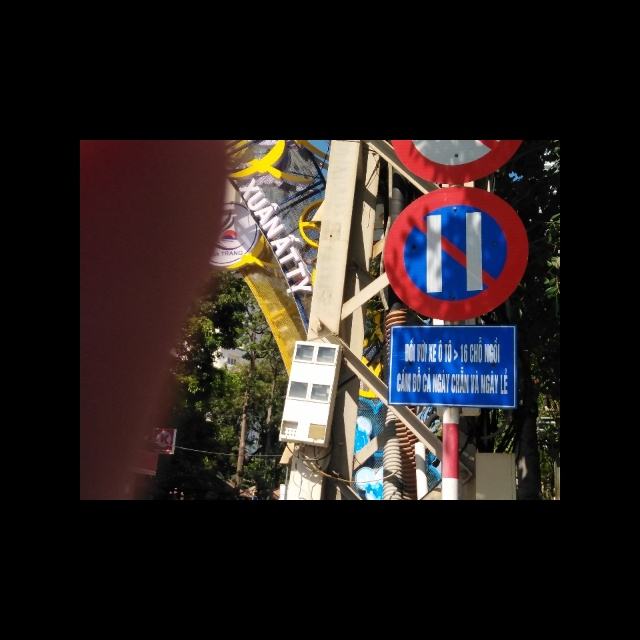Cấm đỗ xe ngày chẵn: (379, 185, 526, 326)
